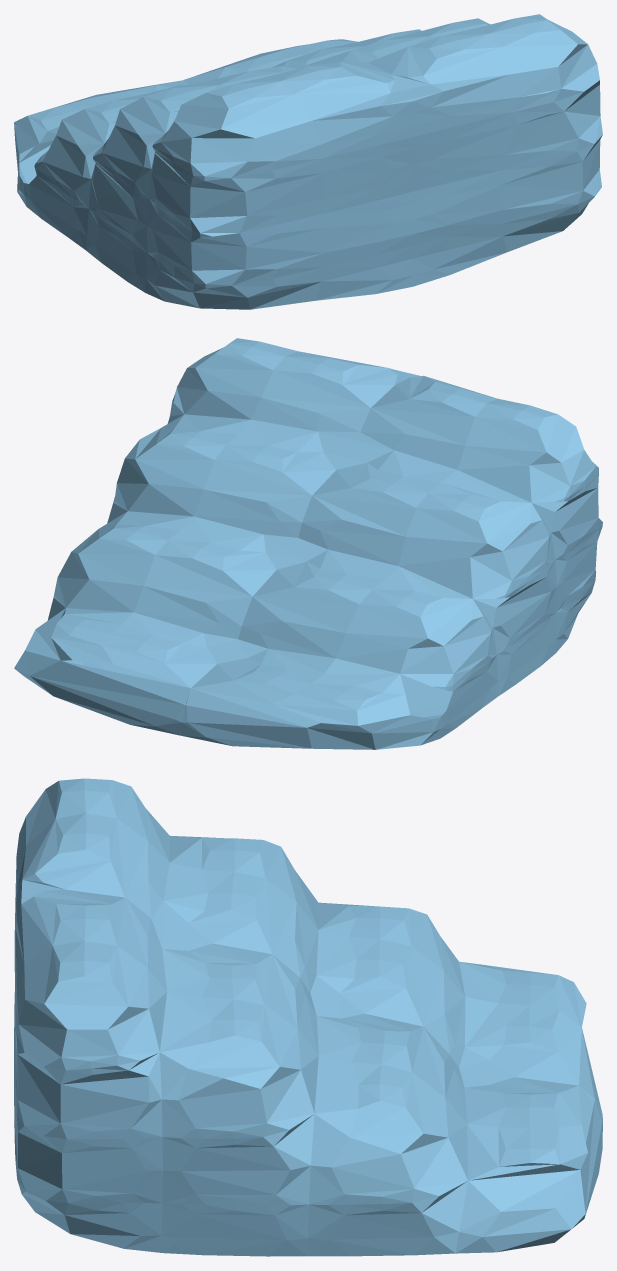
Rendered from brick stairs style 2.fbx.
The picture shows the model from 3 angles, top to bottom: view 1: azimuth 30°, elevation 25°; view 2: azimuth 150°, elevation 25°; view 3: azimuth 270°, elevation 25°; orthographic projection. The views are drawn at different scales.
Parts seen in each view (by area): view 1: Cube.106; view 2: Cube.106; view 3: Cube.106.
Boxes of the visible parts, left/top/right/bottom form: Cube.106: left=14, top=14, right=602, bottom=309; Cube.106: left=14, top=338, right=602, bottom=749; Cube.106: left=14, top=778, right=602, bottom=1256.
Bounding box in the file's own units: 300 × 150 × 300.
